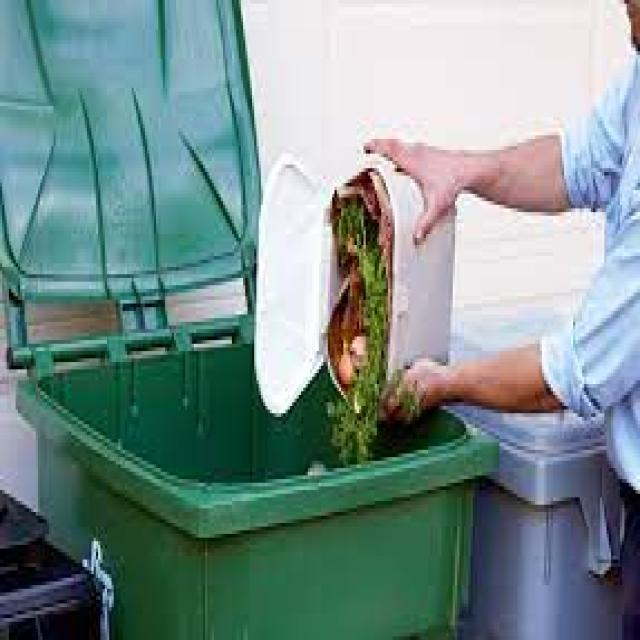Wet: (363, 256, 383, 420)
